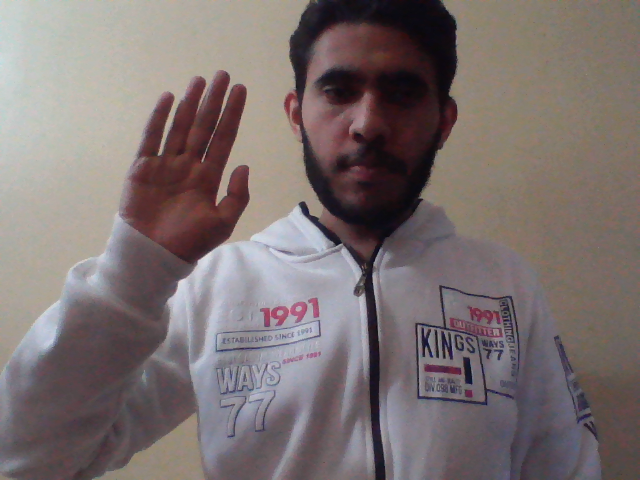hello: (106, 63, 255, 270)
